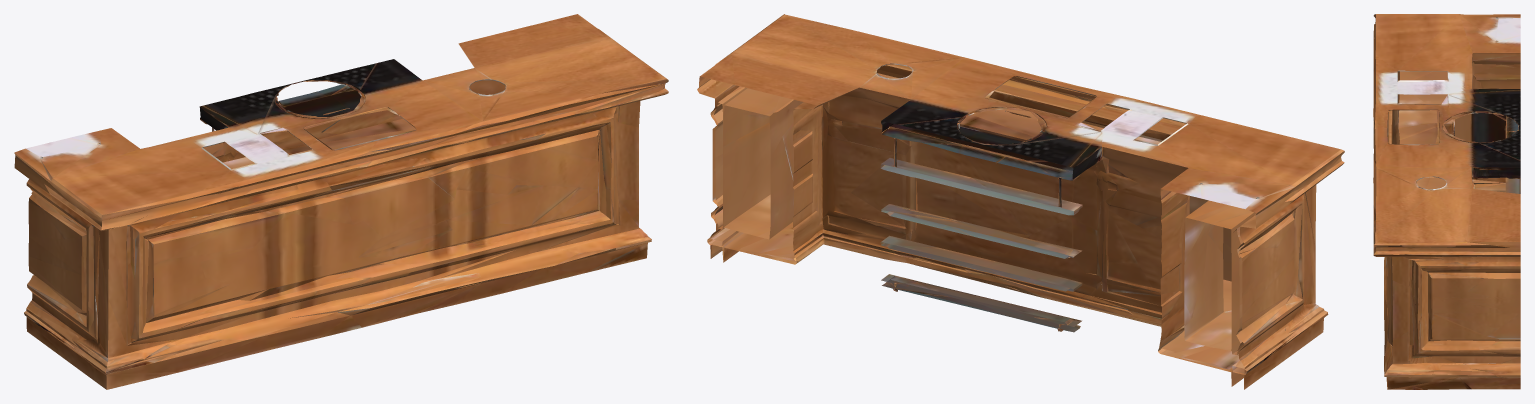
File: shop_counter.glb
3 renders of one model, left to right at view 1: azimuth 30°, elevation 25°; view 2: azimuth 150°, elevation 25°; view 3: azimuth 270°, elevation 25°, orthographic. The views are drawn at different scales.
Bounding box in the file's own units: 1.9 × 0.5887 × 0.5122.
1 material, 1 textured.
